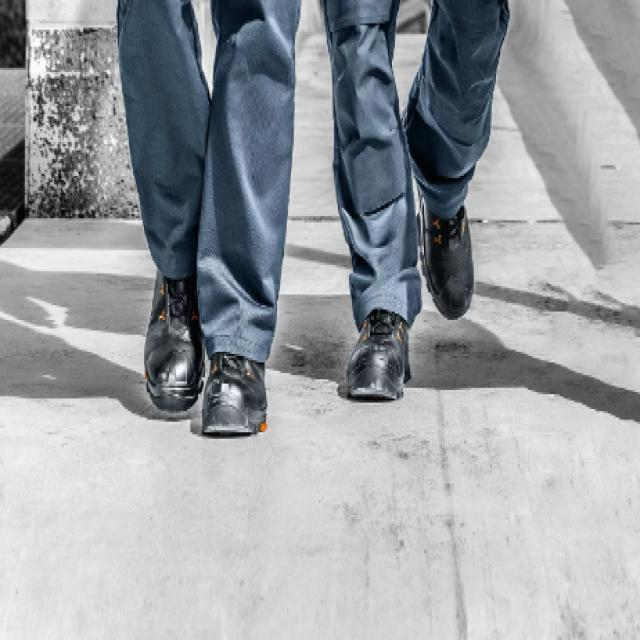shoes: (333, 97, 483, 405), (140, 223, 278, 444)
